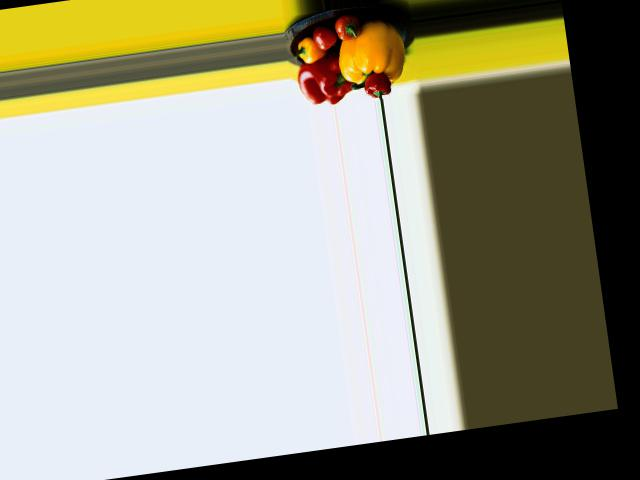bell_pepper: (293, 36, 324, 66)
